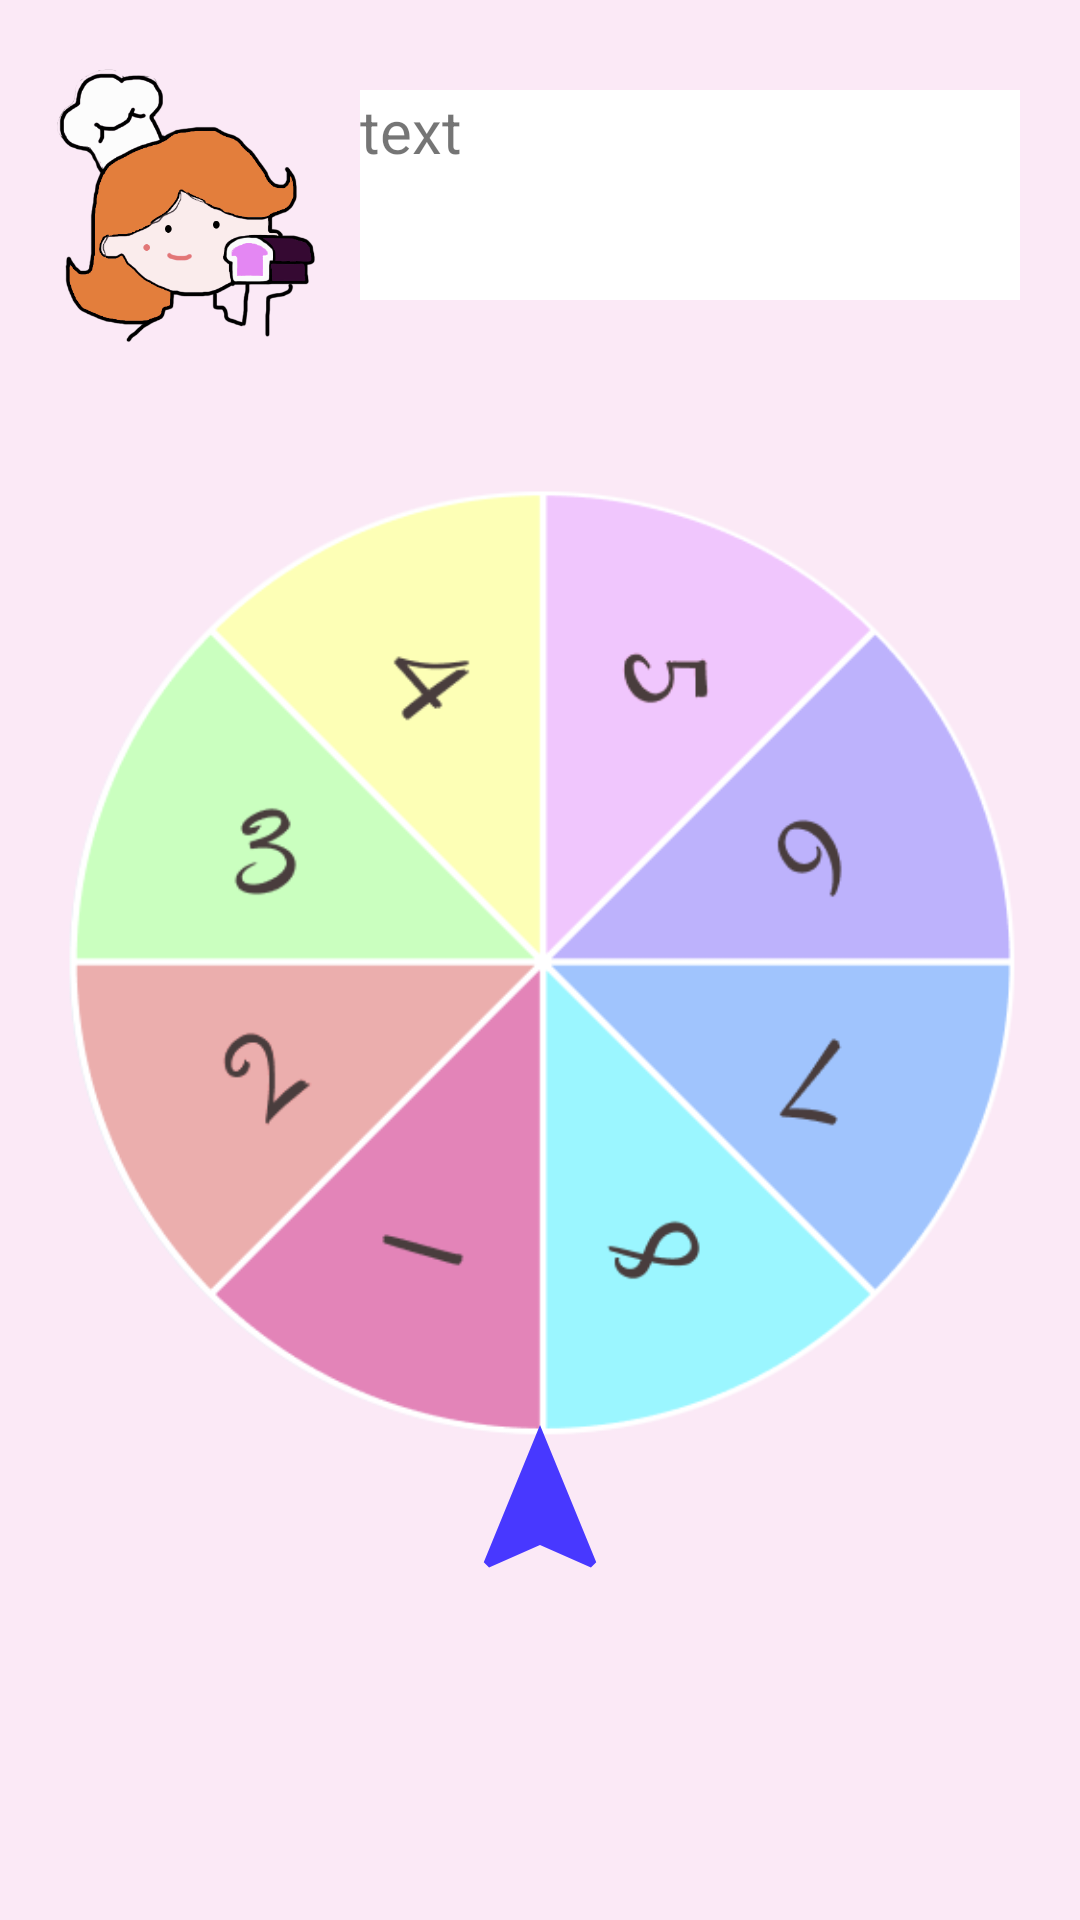

Where to tap for icons on this 1080px×1920px app screen, as (x,y):
chaf: (186,206)
navigation: (540,1474)
